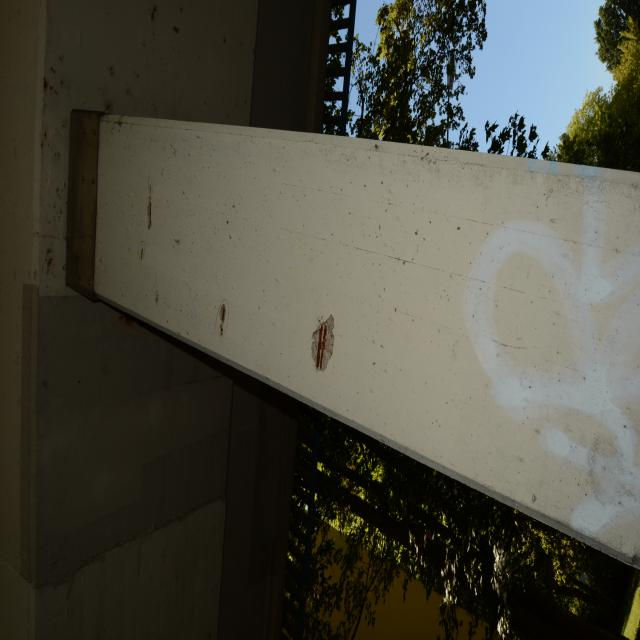corrosion: (177, 469, 214, 495), (202, 328, 225, 340), (274, 220, 307, 228), (254, 210, 262, 216), (225, 232, 231, 238)
